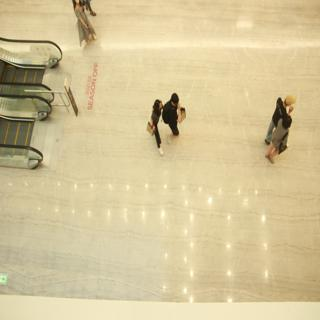person: (266, 90, 299, 141), (138, 99, 167, 154), (267, 113, 292, 168), (162, 82, 186, 139)
